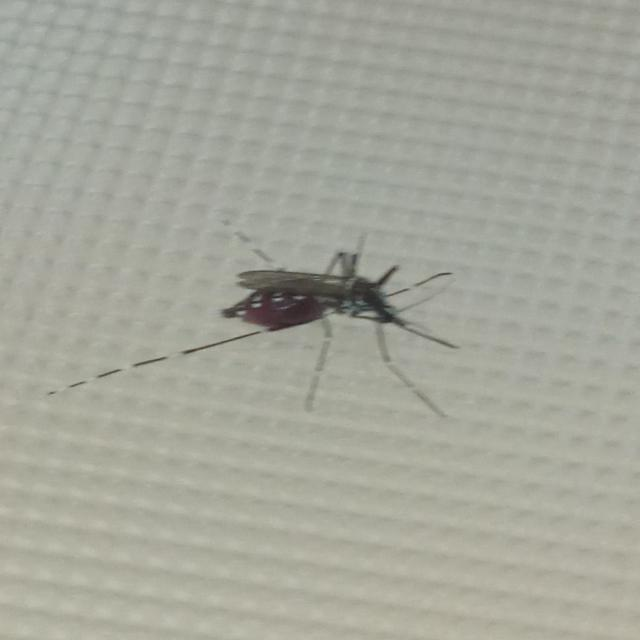albopictus: (54, 220, 485, 420)
